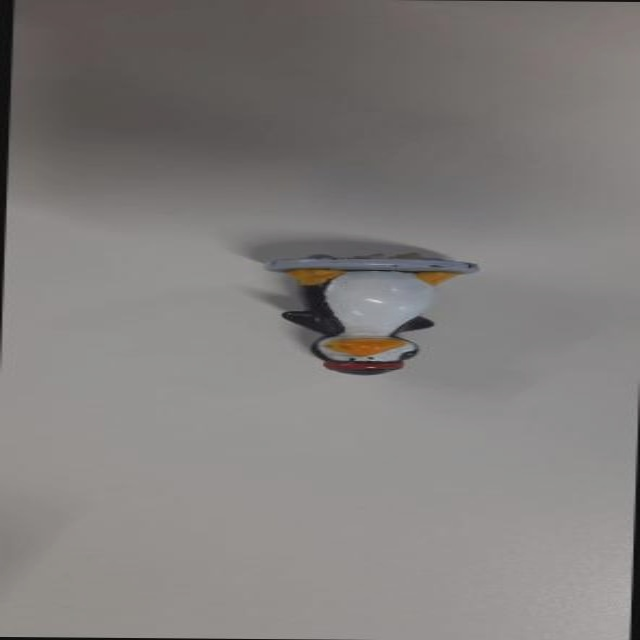Penguin: (234, 237, 503, 416)
